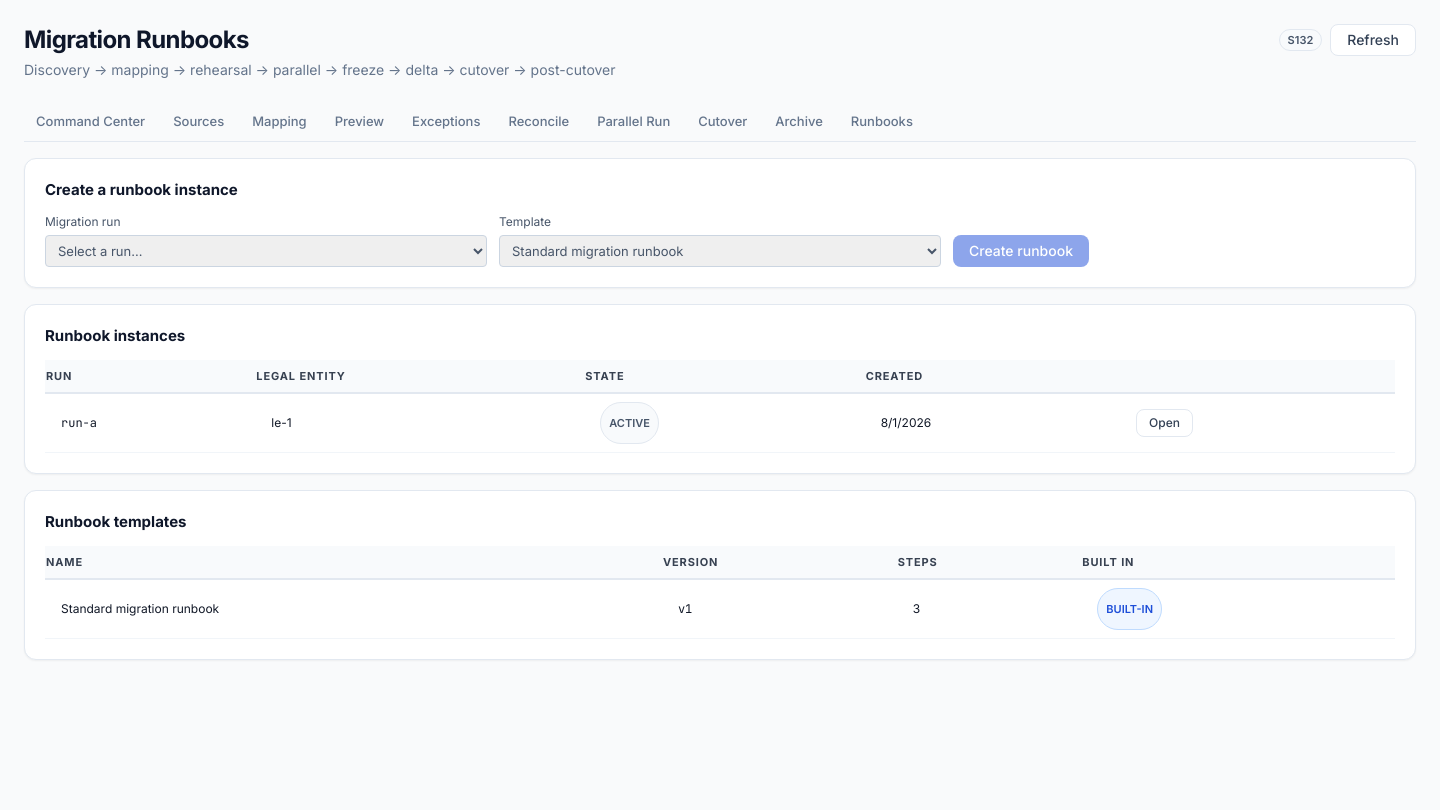
Scenario: MigrationRunbooks › reports that no gate is satisfied yet rather than showing an empty value
The image size is (1440, 810).
Click the button with test id "runbook-open-rb-1": (1165, 423) [1136,409,1193,437]
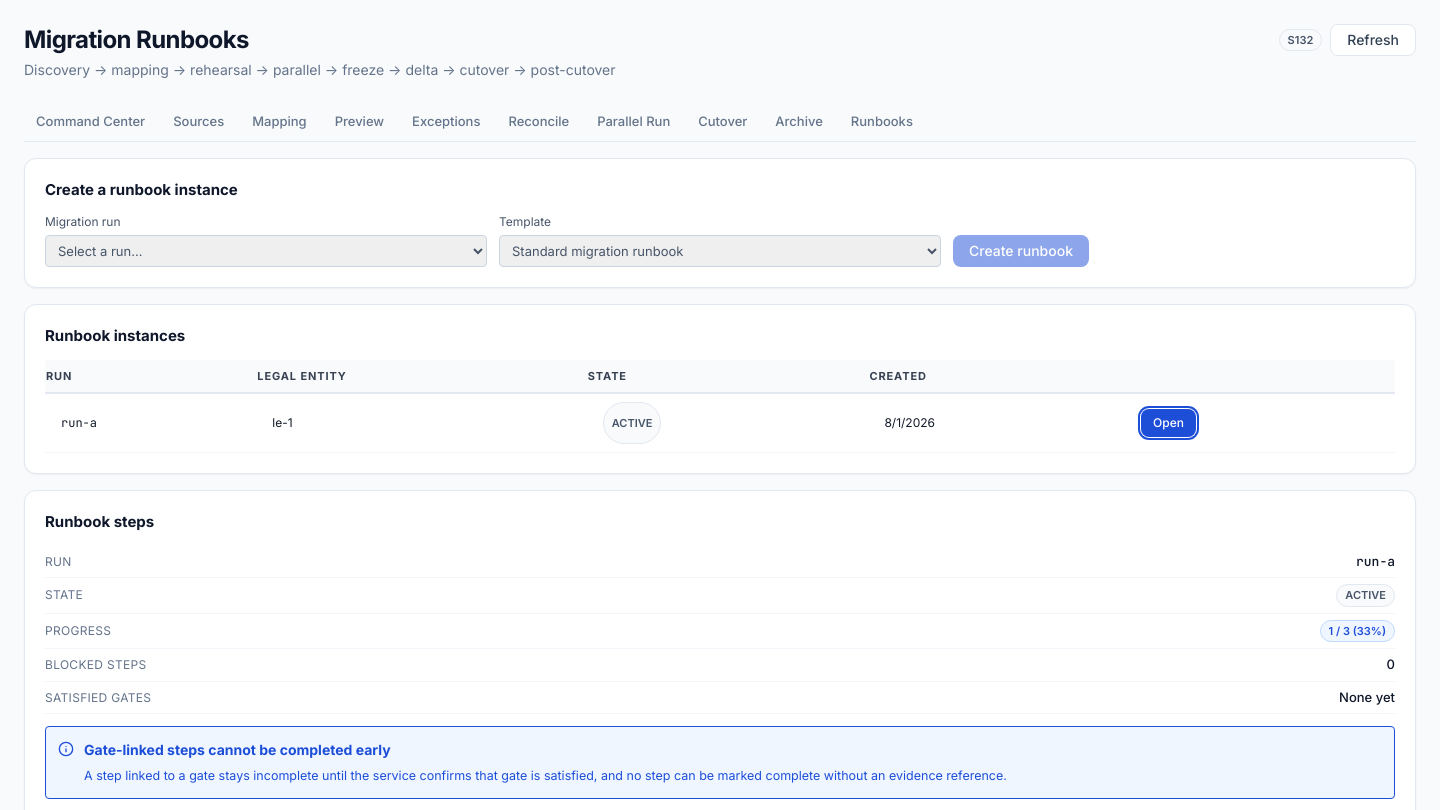
expect the text with test id "runbook-satisfied-gates" reads "None yet": met, box [1339,688,1395,704]
